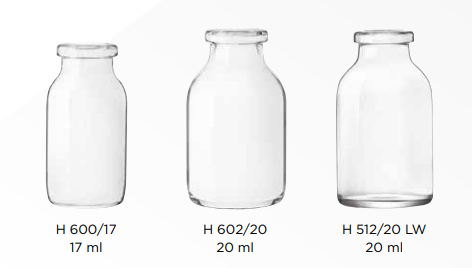glass_bottle: (179, 22, 304, 212), (332, 26, 440, 212), (46, 33, 130, 212)
